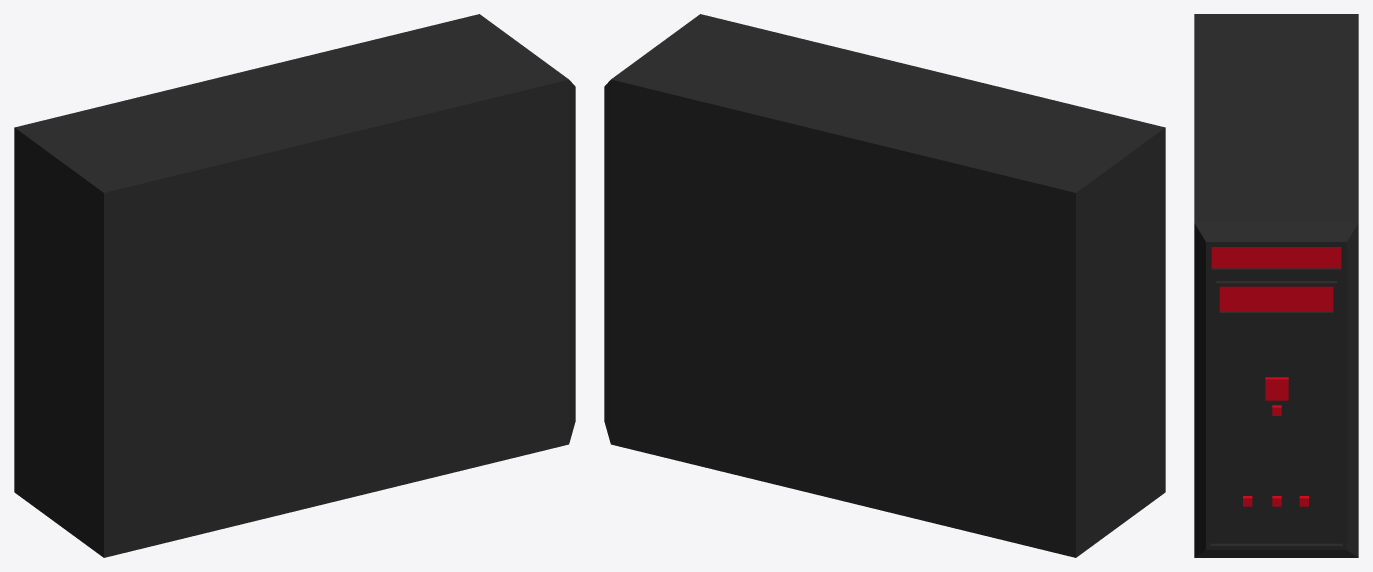
3 views of the same model, side by side, from view 1: azimuth 30°, elevation 25°; view 2: azimuth 150°, elevation 25°; view 3: azimuth 270°, elevation 25° (orthographic). The views are drawn at different scales.
Parts seen in each view (by area): view 1: Cube.001; view 2: Cube.001; view 3: Cube.001.
Boxes of the visible parts, <box> form: Cube.001: <box>14,14,575,557</box>; Cube.001: <box>604,14,1165,557</box>; Cube.001: <box>1194,14,1358,557</box>.
Bounding box in the file's own units: 173 × 126 × 56.
